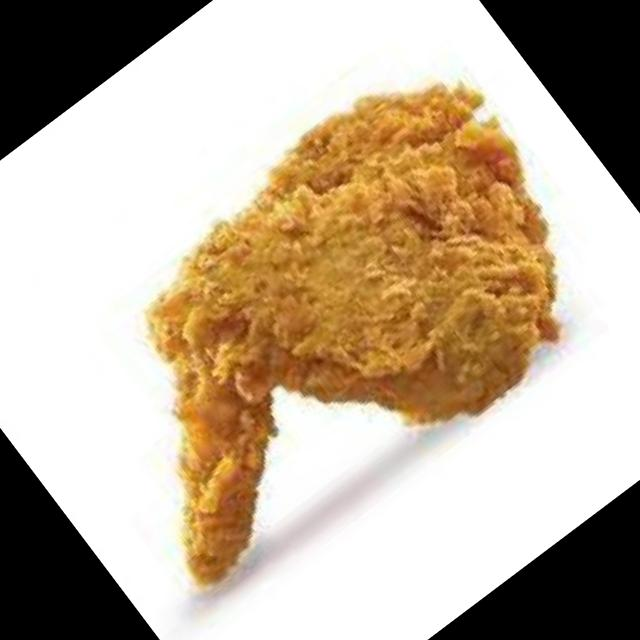Fried Chicken: (148, 85, 562, 594)
